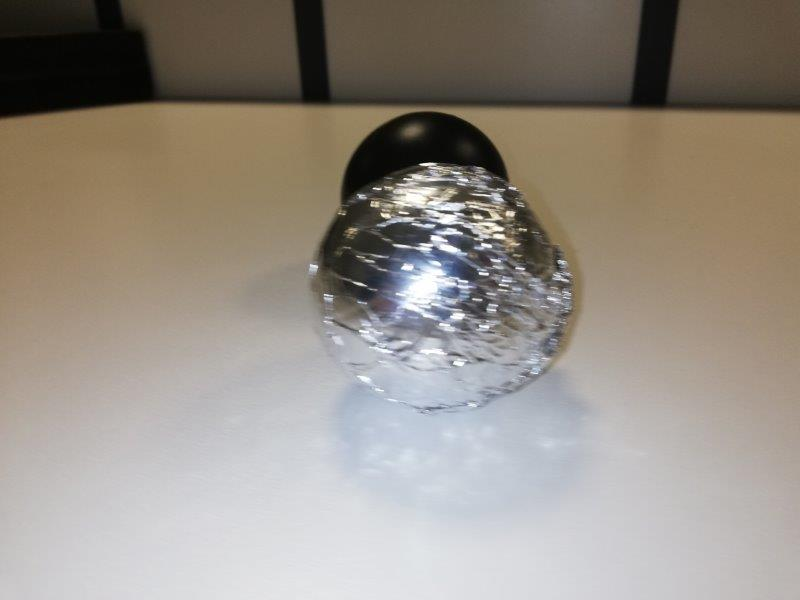bianca: (309, 164, 567, 405)
nera: (340, 110, 502, 175)
